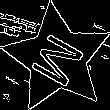M_SE: (24, 26, 90, 91)
